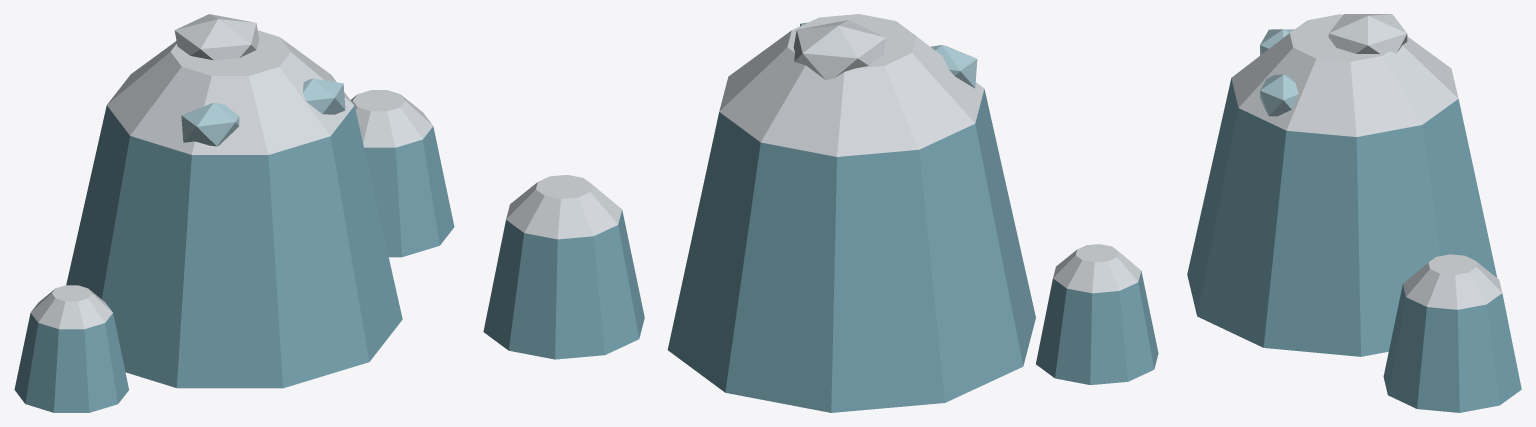
The model's file is Frosty_IcebergCluster_Showcase.glb.
3 views of the same model, side by side, from view 1: azimuth 30°, elevation 25°; view 2: azimuth 150°, elevation 25°; view 3: azimuth 270°, elevation 25° (orthographic). The views are drawn at different scales.
Visible parts, largest first — view 1: Frosty_IcebergCluster_Showcase; view 2: Frosty_IcebergCluster_Showcase; view 3: Frosty_IcebergCluster_Showcase.
Part boxes in pixels (x1=…): Frosty_IcebergCluster_Showcase: x1=14, y1=14, x2=454, y2=412; Frosty_IcebergCluster_Showcase: x1=483, y1=14, x2=1158, y2=412; Frosty_IcebergCluster_Showcase: x1=1187, y1=14, x2=1521, y2=412.
Bounding box in the file's own units: 3.61 × 1.96 × 2.18.
